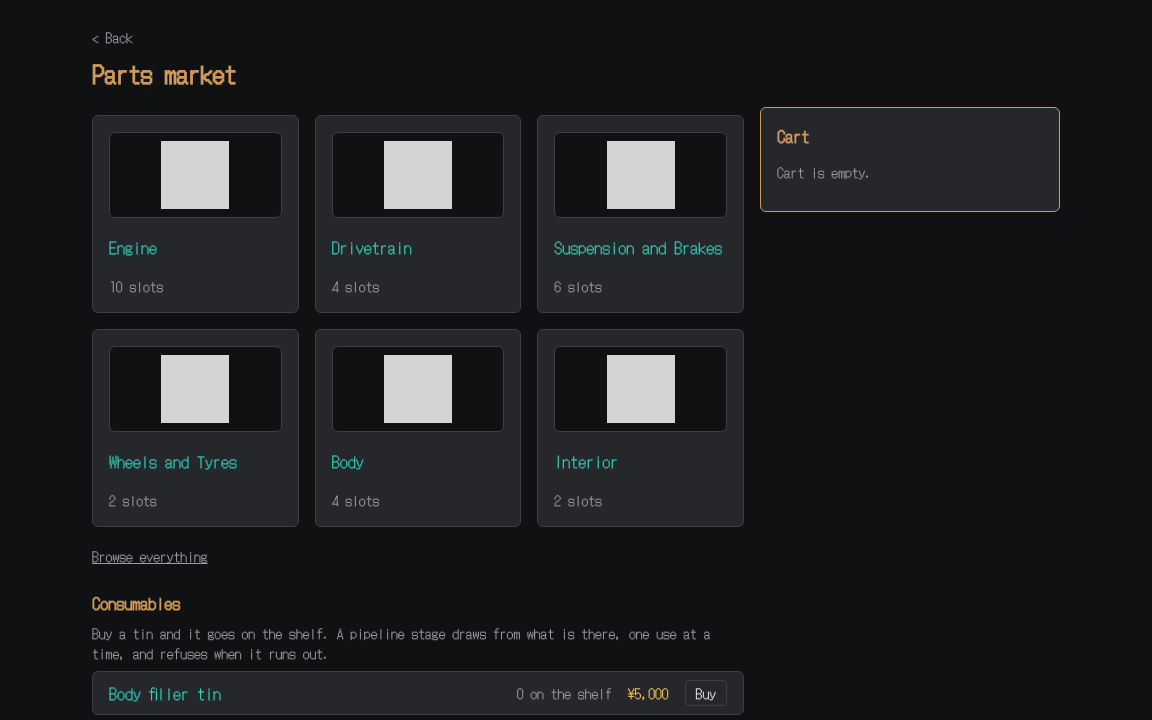
Test: PartsMarketScreen › adding to cart spends nothing
Click the button with test id "browse-everything" at [150, 556], box [92, 546, 208, 566]
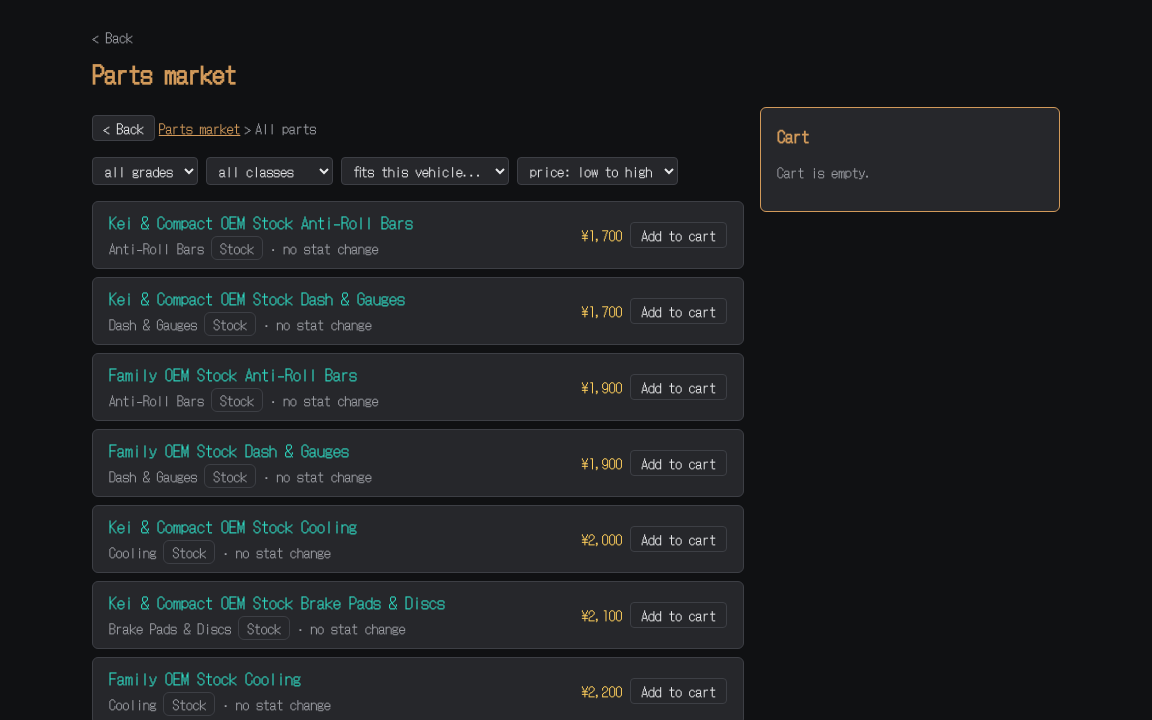
Click the button "Add to cart" in the row of "Kei & Compact OEM Stock Anti-Roll Bars" at [679, 235], box [630, 222, 727, 248]
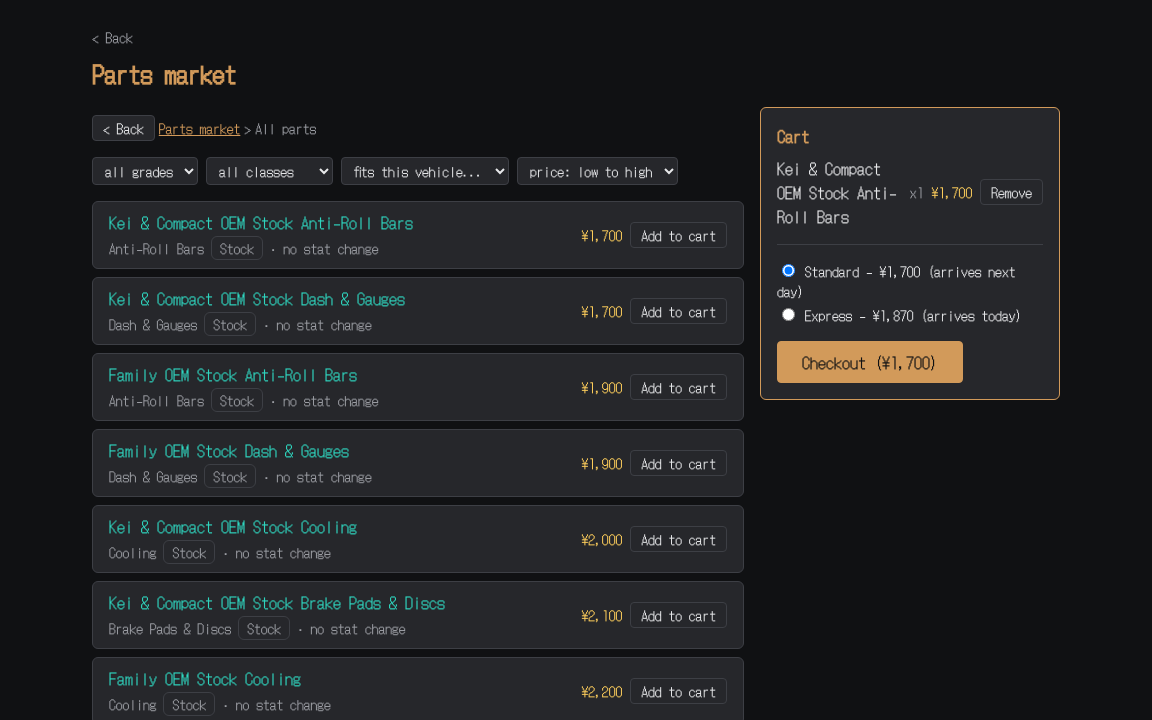
Expected: the element with test id "cart-panel" shows "Stock Anti-Roll Bars", [777, 156, 897, 228]
